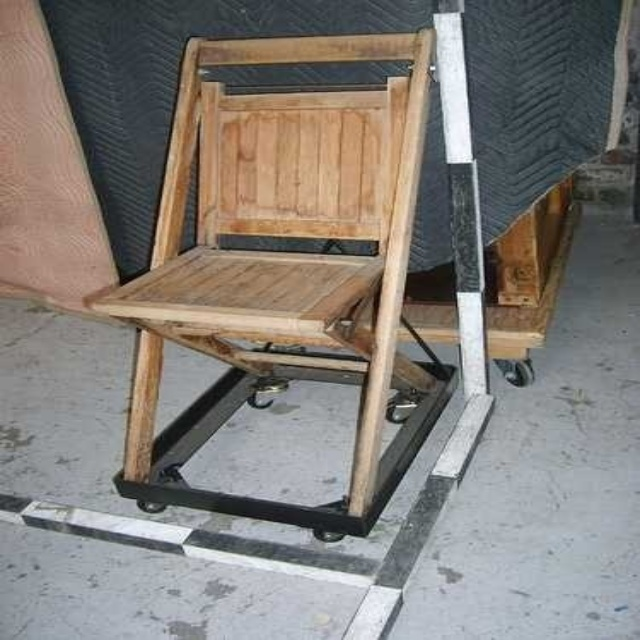obstacle: (87, 29, 449, 539)
